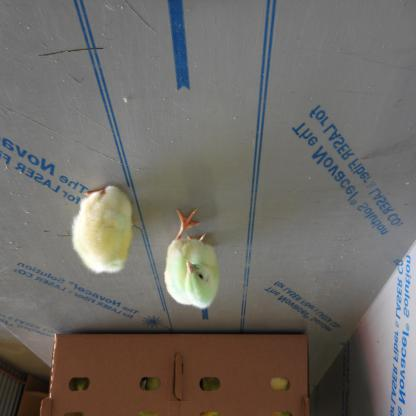Chickrotationtrack_idkeyframe: (67, 175, 136, 287), (160, 206, 226, 310)
